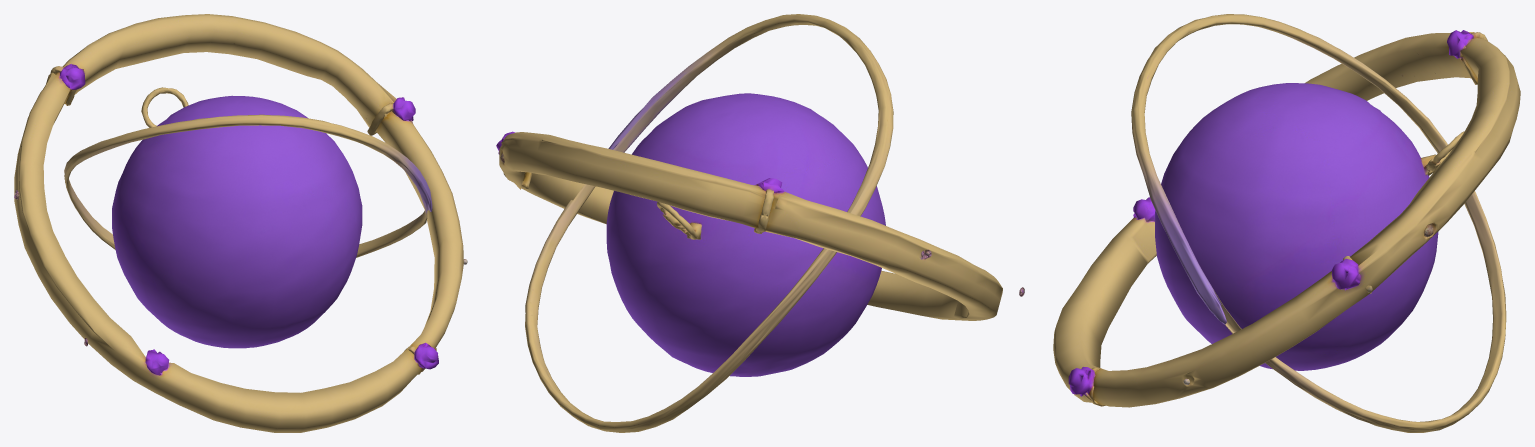
The model's file is r33-orb.glb.
3 views of the same model, side by side, from view 1: azimuth 30°, elevation 25°; view 2: azimuth 150°, elevation 25°; view 3: azimuth 270°, elevation 25° (orthographic). The views are drawn at different scales.
Parts seen in each view (by area): view 1: tripo_node_24bd93c7-745c-47a1-a844-55a4d7813f14; view 2: tripo_node_24bd93c7-745c-47a1-a844-55a4d7813f14; view 3: tripo_node_24bd93c7-745c-47a1-a844-55a4d7813f14.
Part boxes in pixels (x1=…): tripo_node_24bd93c7-745c-47a1-a844-55a4d7813f14: x1=14, y1=14, x2=467, y2=432; tripo_node_24bd93c7-745c-47a1-a844-55a4d7813f14: x1=496, y1=14, x2=1024, y2=432; tripo_node_24bd93c7-745c-47a1-a844-55a4d7813f14: x1=1053, y1=14, x2=1520, y2=432.
Size of the model in its own units: 0.998 by 0.6777 by 0.8887.
1 material, 1 textured.
